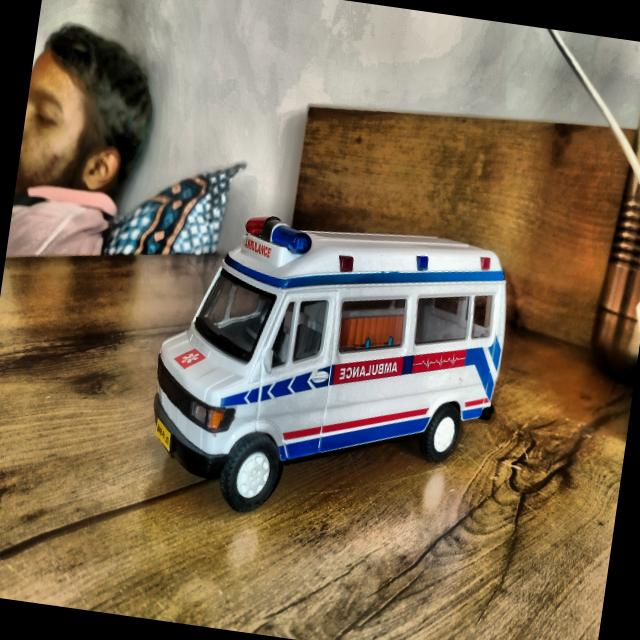Ambulance: (139, 203, 516, 544)
